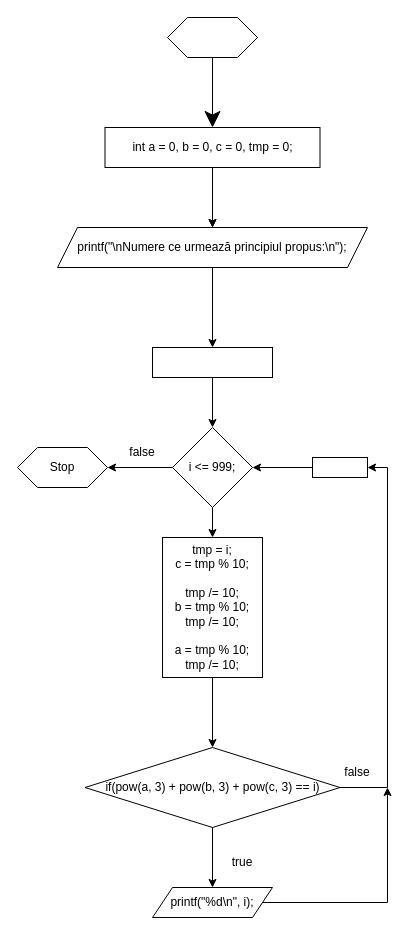
The diagram is 413 pixels wide and 935 high, and some of its shapes have lost their labels. The centre of each missing label's shape, as x and y in pixels:
i++;: [340,467]
int i = 100;: [212,362]
Start: [212,37]
